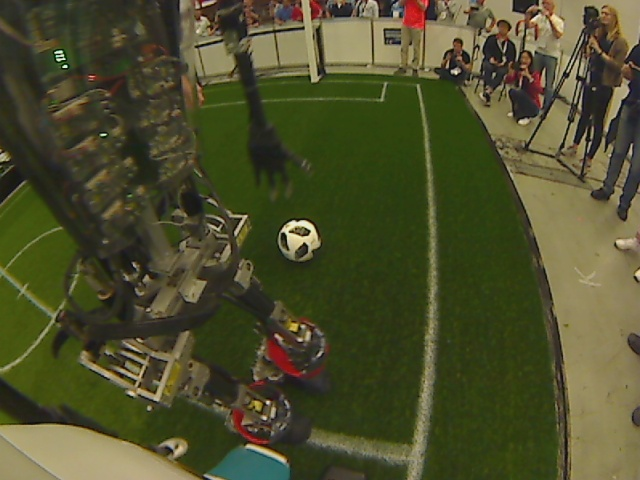ball: (275, 216, 322, 266)
